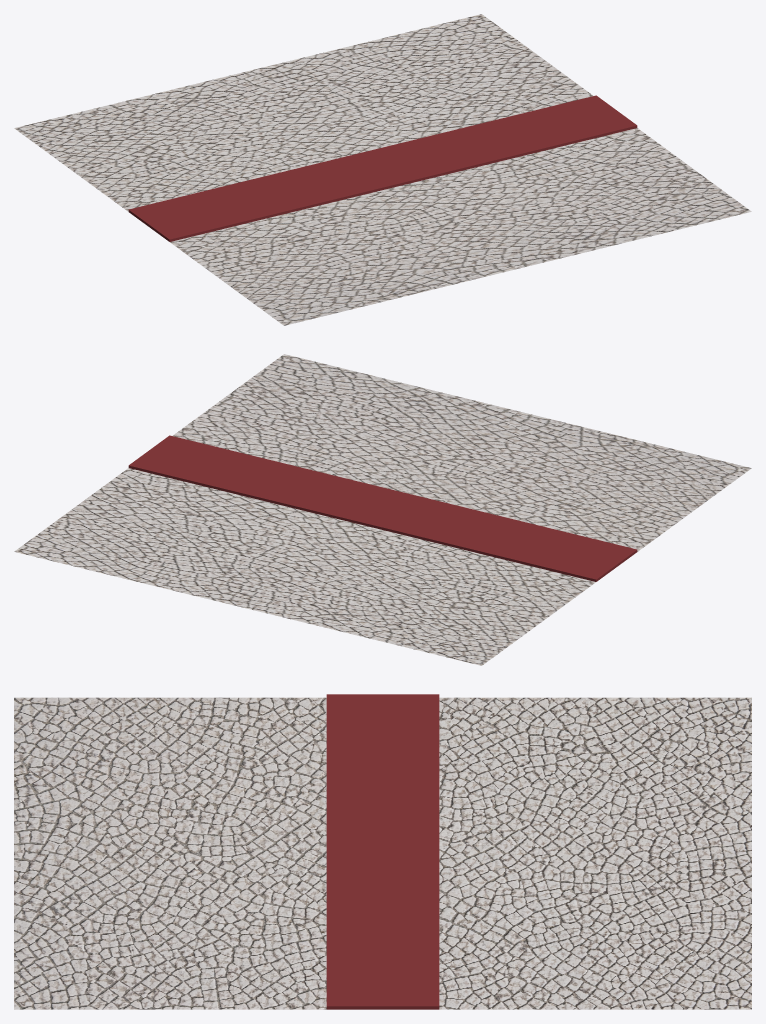
File: chao_meio.fbx
3 renders of one model, top to bottom at view 1: azimuth 30°, elevation 25°; view 2: azimuth 150°, elevation 25°; view 3: azimuth 270°, elevation 25°, orthographic. The views are drawn at different scales.
Visible parts, largest first — view 1: Plane; view 2: Plane; view 3: Plane.
Boxes of the visible parts, bbox=[...] form: Plane: bbox=[14, 14, 751, 325]; Plane: bbox=[14, 354, 751, 665]; Plane: bbox=[14, 694, 751, 1009].
Size of the model in its own units: 200 by 1 by 200.
2 materials, 1 textured.
